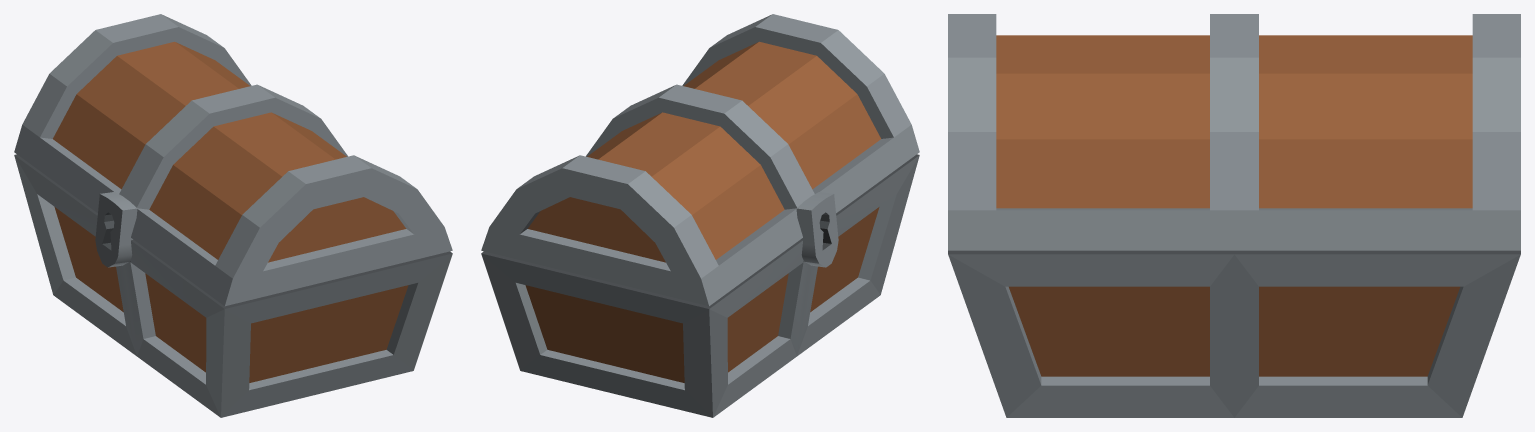
File: chest.fbx
3 renders of one model, left to right at view 1: azimuth 30°, elevation 25°; view 2: azimuth 150°, elevation 25°; view 3: azimuth 270°, elevation 25°, orthographic. The views are drawn at different scales.
Visible parts, largest first — view 1: pCube14; view 2: pCube14; view 3: pCube14.
Boxes of the visible parts, x1=… form: pCube14: x1=14, y1=14, x2=452, y2=417; pCube14: x1=481, y1=14, x2=919, y2=417; pCube14: x1=948, y1=14, x2=1520, y2=417.
Size of the model in its own units: 7.1 by 6.55 by 10.68.
